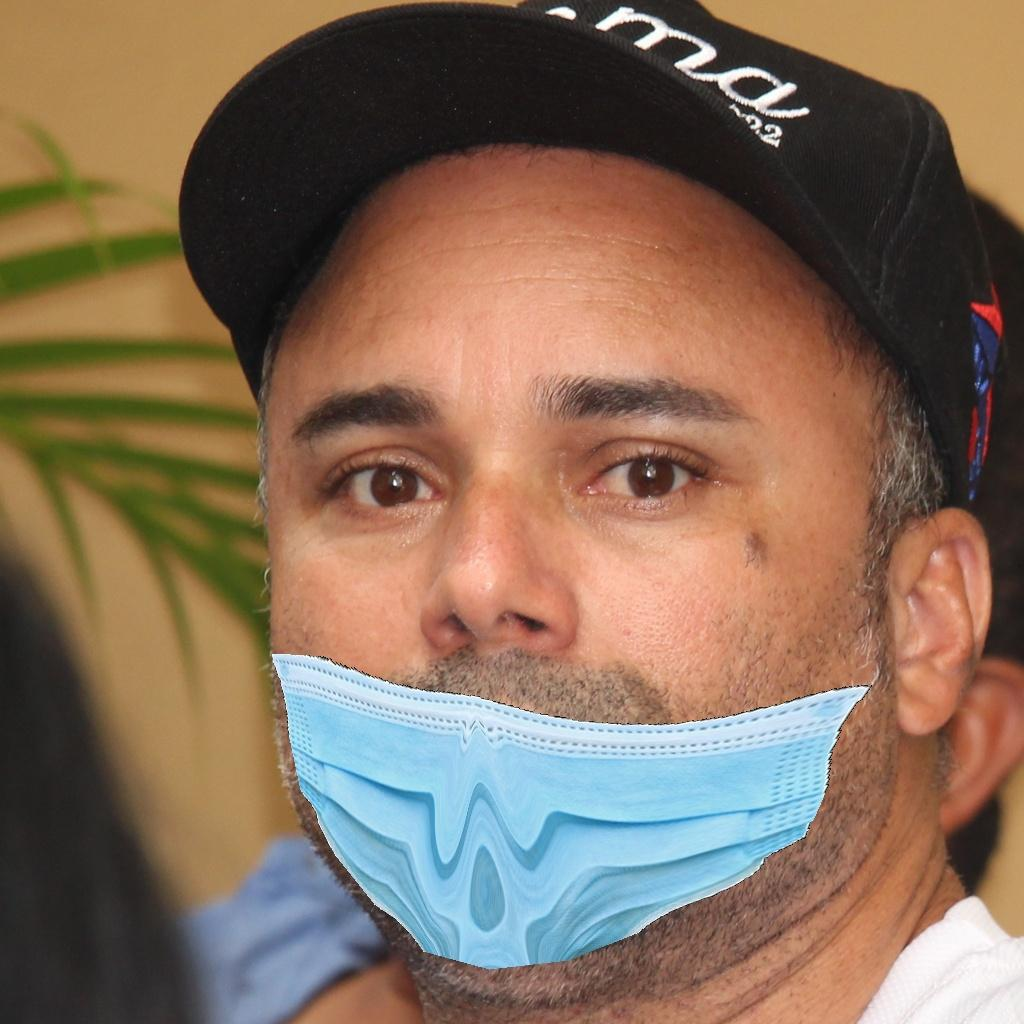Máscara Incorreta: (261, 302, 889, 967)
